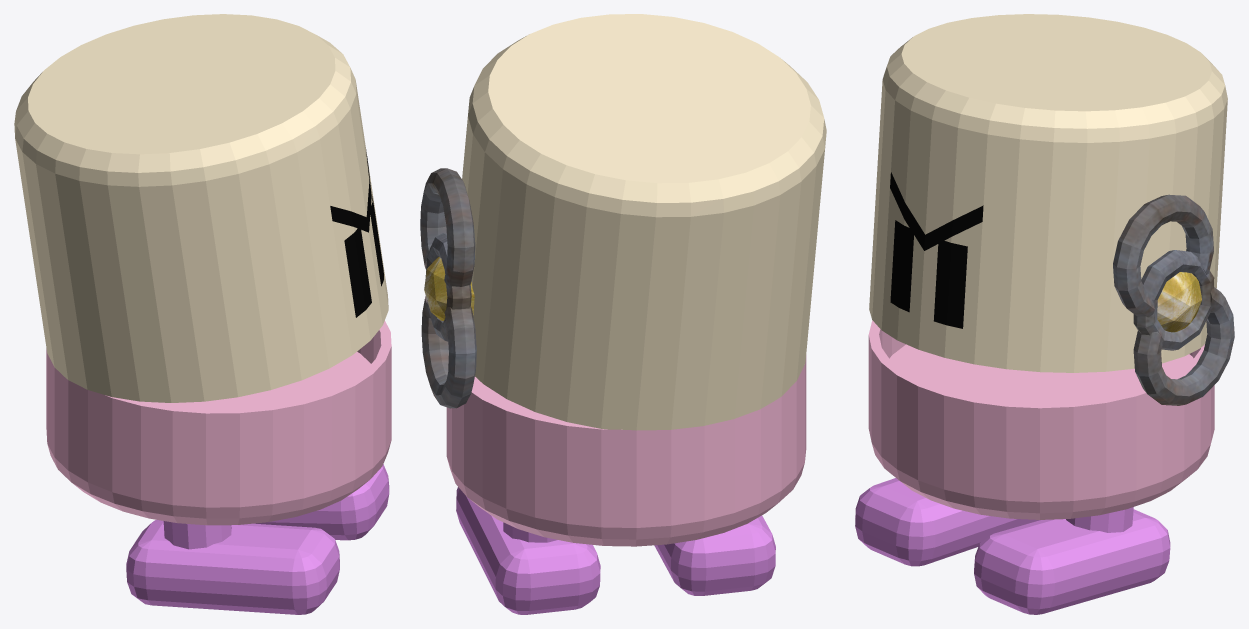
Rendered from Toasters036.obj.
The picture shows the model from 3 angles, left to right: view 1: azimuth 30°, elevation 25°; view 2: azimuth 150°, elevation 25°; view 3: azimuth 270°, elevation 25°; orthographic projection. The views are drawn at different scales.
Visible parts, largest first — view 1: Head, Jaw, RightLeg, LeftLeg; view 2: Head, Jaw, WindupKey, LeftLeg, RightLeg; view 3: Head, Jaw, WindupKey, LeftLeg, RightLeg.
Part boxes in pixels (x1,y1,x2,y2): Head: (14,14,388,402); Jaw: (46,320,391,525); RightLeg: (126,519,339,614); LeftLeg: (255,464,389,540); Head: (462,14,826,430); Jaw: (446,355,806,546); WindupKey: (420,168,476,408); LeftLeg: (456,487,600,614); RightLeg: (654,515,775,595); Head: (869,14,1227,372); Jaw: (868,320,1214,519); WindupKey: (1113,194,1234,405); LeftLeg: (974,507,1170,614); RightLeg: (855,478,1040,566).
Size of the model in its own units: 113 by 159 by 110.
Materials: 6 (2 with a texture image).
